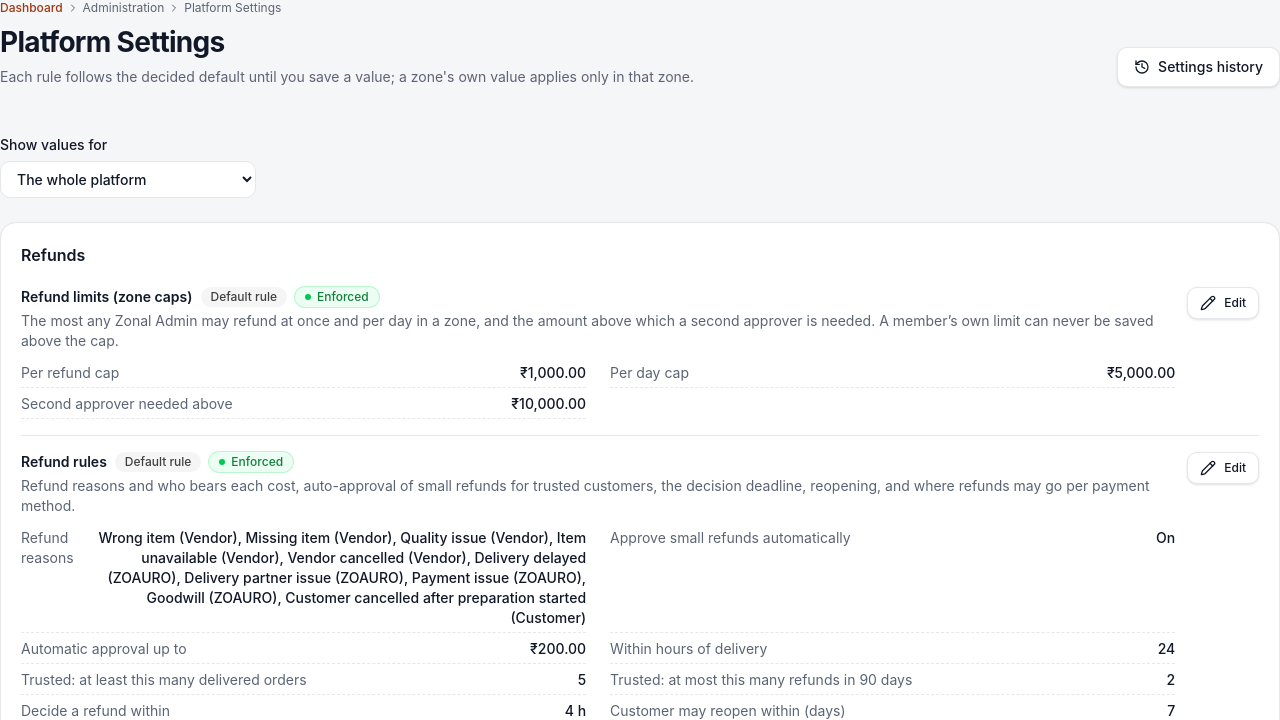
Scenario: Platform Settings page › edit → review (server preview) → reason → save sends the paise value and the reason
Click the button with aria-label "Edit Refund limits (zone caps)" at x=1223, y=303, box left=1187, top=287, right=1259, bottom=319
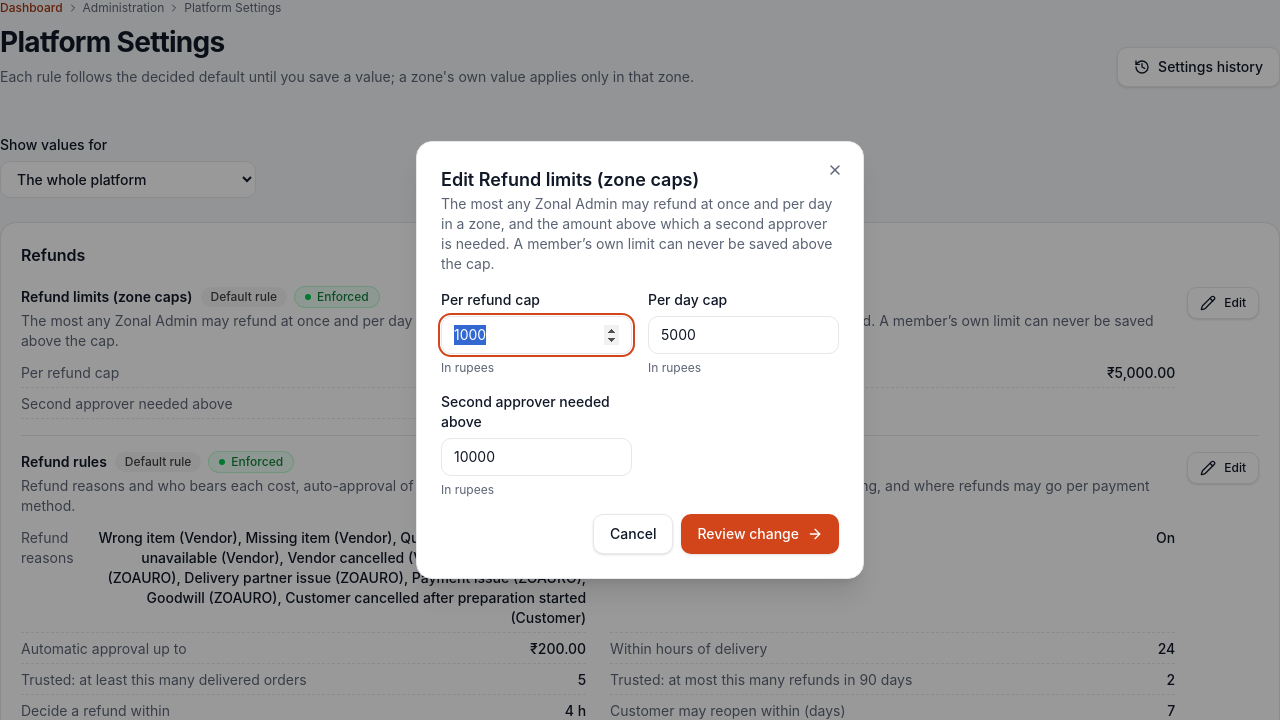
Replace the text in the number field labelled "Per refund cap" with "2000" at x=536, y=335, box left=441, top=316, right=632, bottom=354
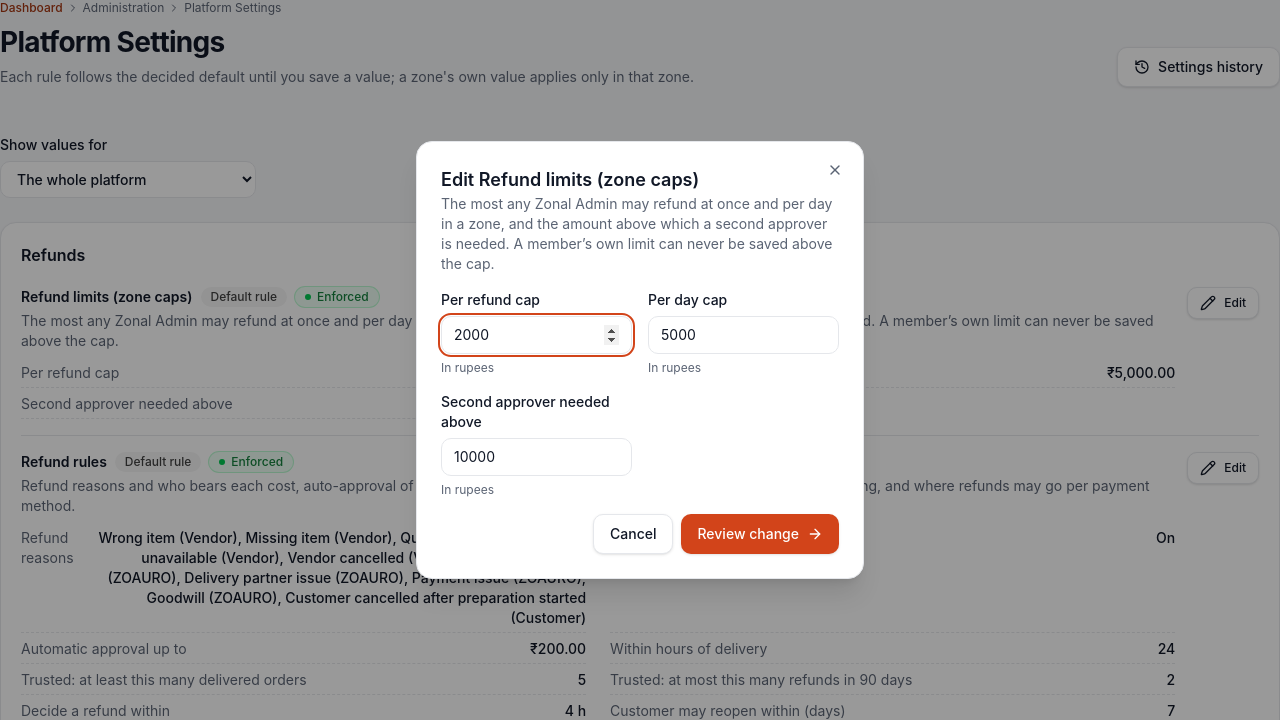
Click the button "Review change" at x=760, y=534, box left=682, top=514, right=839, bottom=554
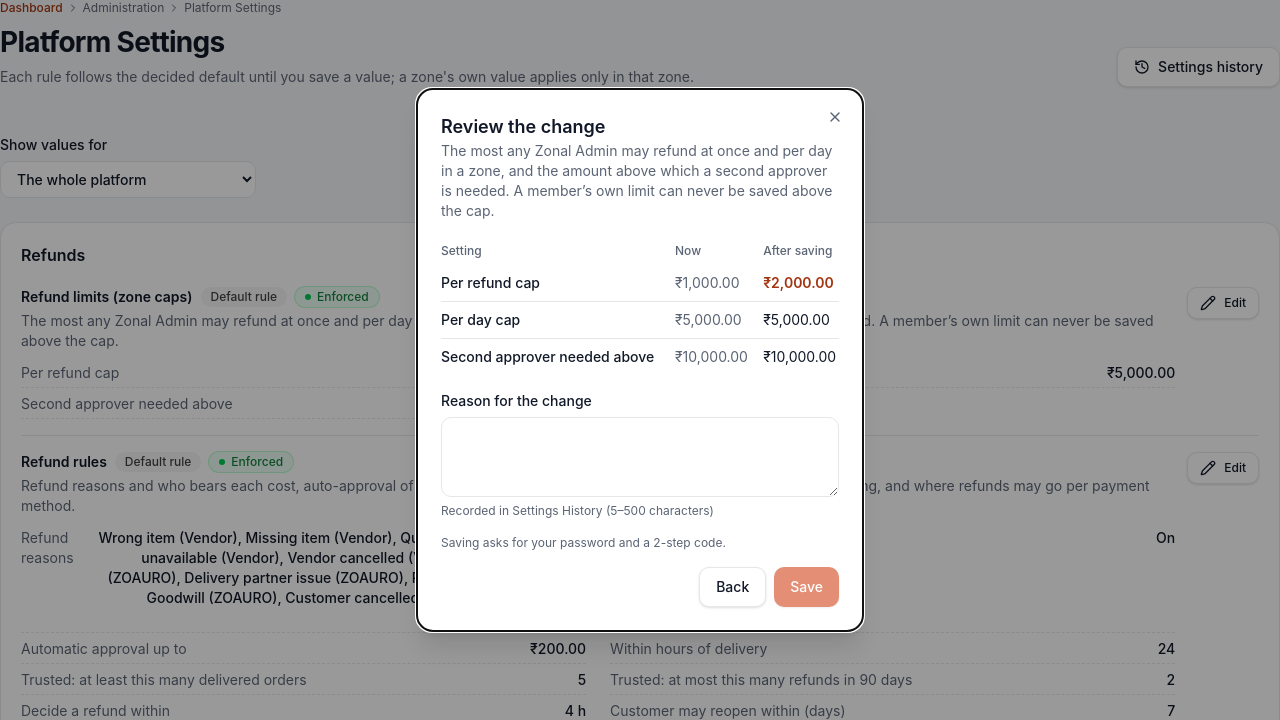
Expected: the text "₹2,000.00" is shown, left=763, top=265, right=839, bottom=302
Expected: the button "Save" is disabled, left=774, top=567, right=839, bottom=607
Type "Higher cap for festival week" into the text box labelled "Reason for the change" at x=640, y=457, box left=441, top=417, right=839, bottom=497
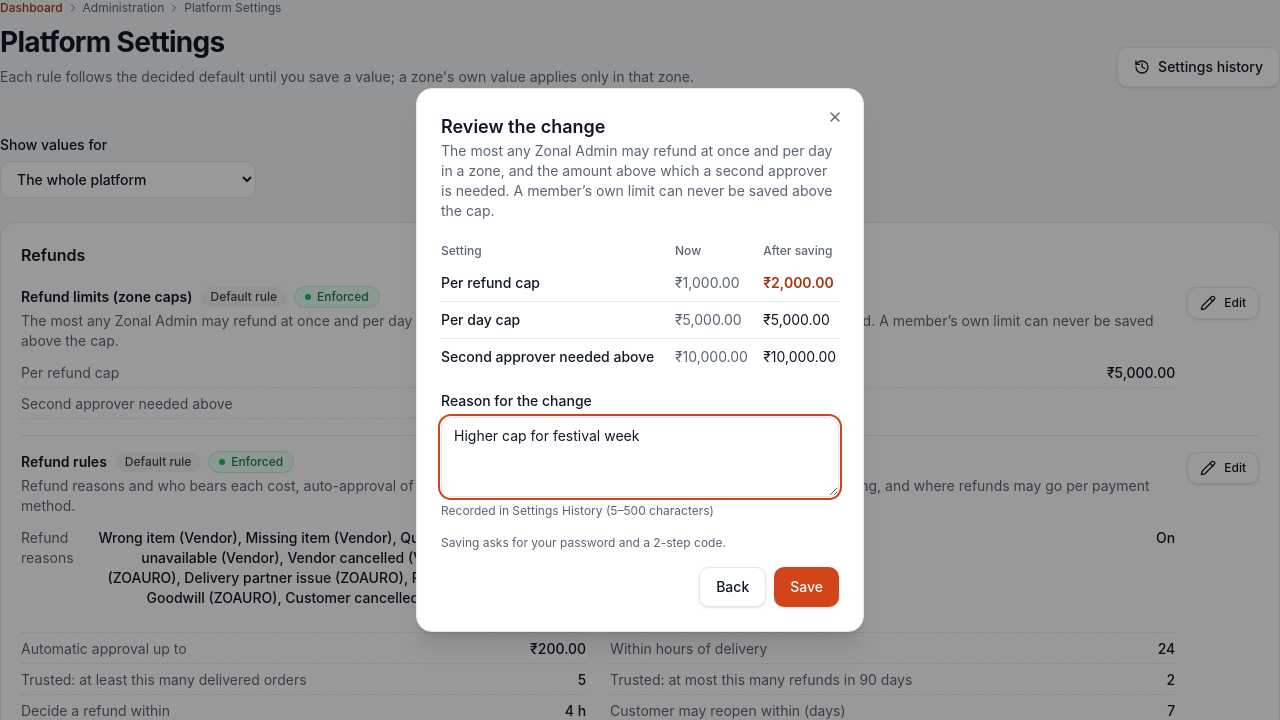
Click the button "Save" at x=807, y=587, box left=774, top=567, right=839, bottom=607
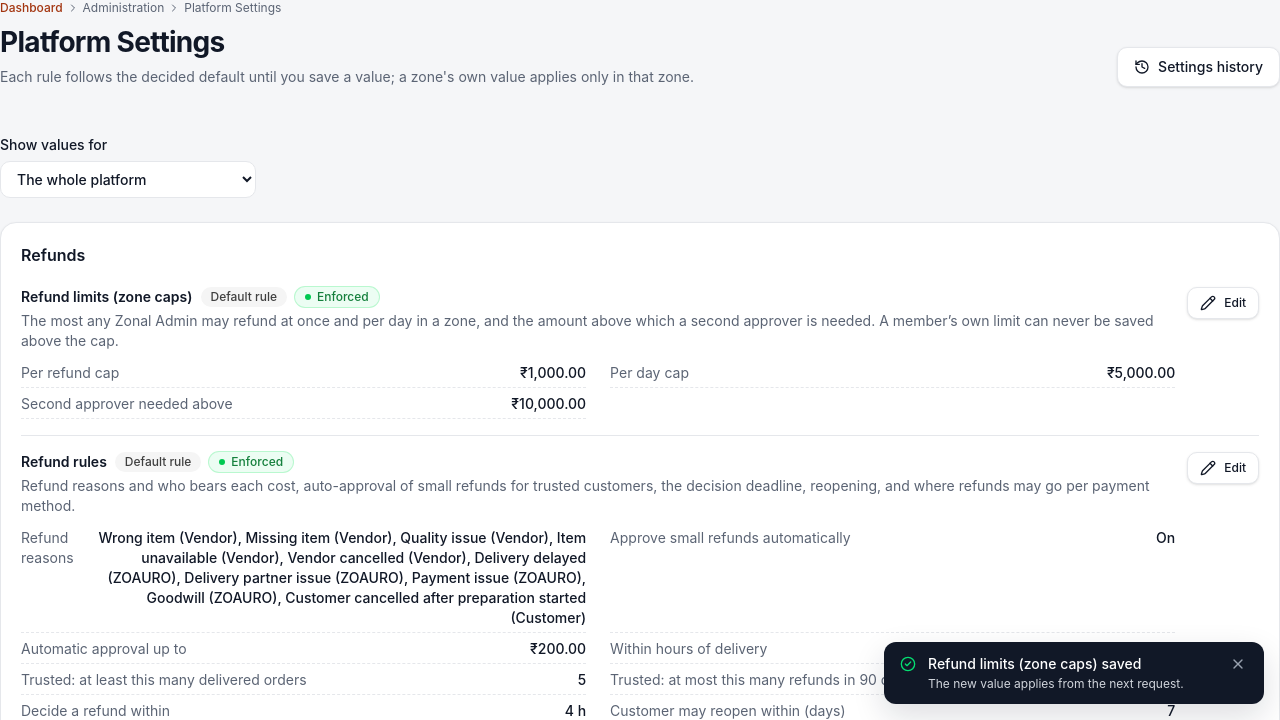
Expected: the text "Refund limits (zone caps) saved" is shown, left=928, top=655, right=1141, bottom=672
